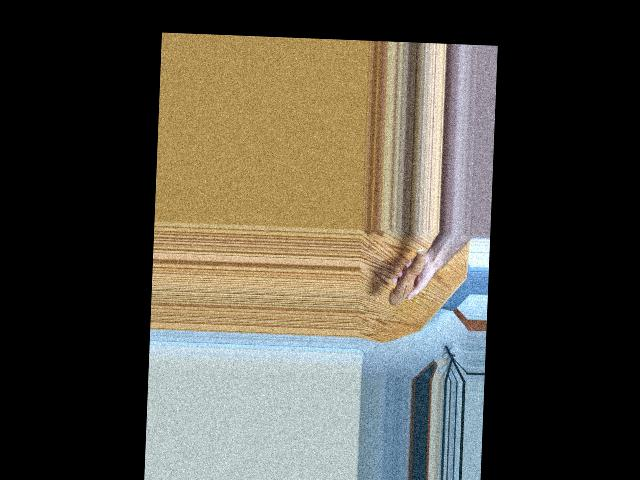sweet_potato: (388, 246, 430, 309)
